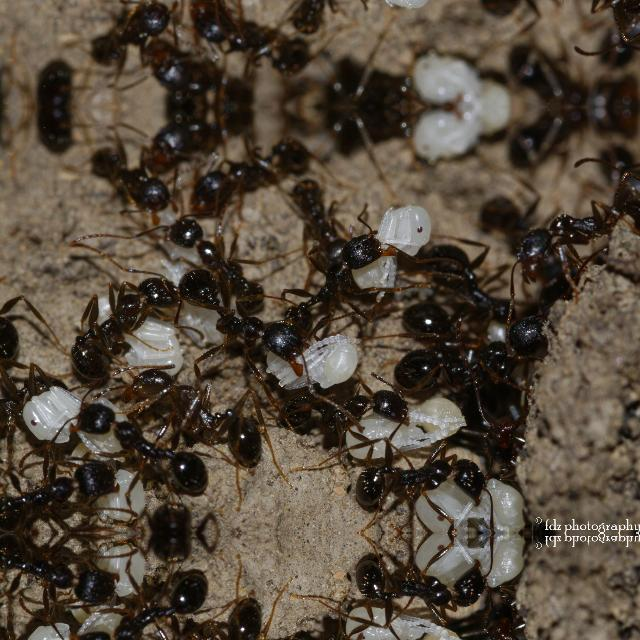Apheanogaster: (263, 222, 409, 368), (495, 140, 639, 280), (125, 357, 289, 465), (379, 305, 561, 393), (166, 271, 320, 369), (68, 395, 218, 495), (55, 270, 185, 380), (413, 238, 547, 340), (339, 446, 499, 514), (339, 552, 499, 618), (68, 570, 218, 640), (495, 0, 639, 72), (159, 215, 281, 299), (190, 132, 318, 210), (190, 2, 318, 80), (0, 452, 124, 532), (0, 533, 124, 613), (490, 105, 640, 168), (490, 44, 640, 106), (276, 378, 426, 439), (466, 385, 546, 477), (125, 600, 289, 640), (90, 142, 182, 212), (90, 0, 182, 70), (143, 106, 241, 164), (143, 48, 241, 106), (282, 171, 356, 247), (330, 106, 448, 150), (330, 62, 448, 106), (0, 368, 66, 446), (464, 588, 546, 640), (0, 282, 46, 374), (139, 502, 259, 532), (139, 534, 259, 562), (17, 106, 71, 168), (17, 44, 71, 106), (282, 0, 356, 40), (276, 624, 424, 640), (0, 618, 66, 640)
